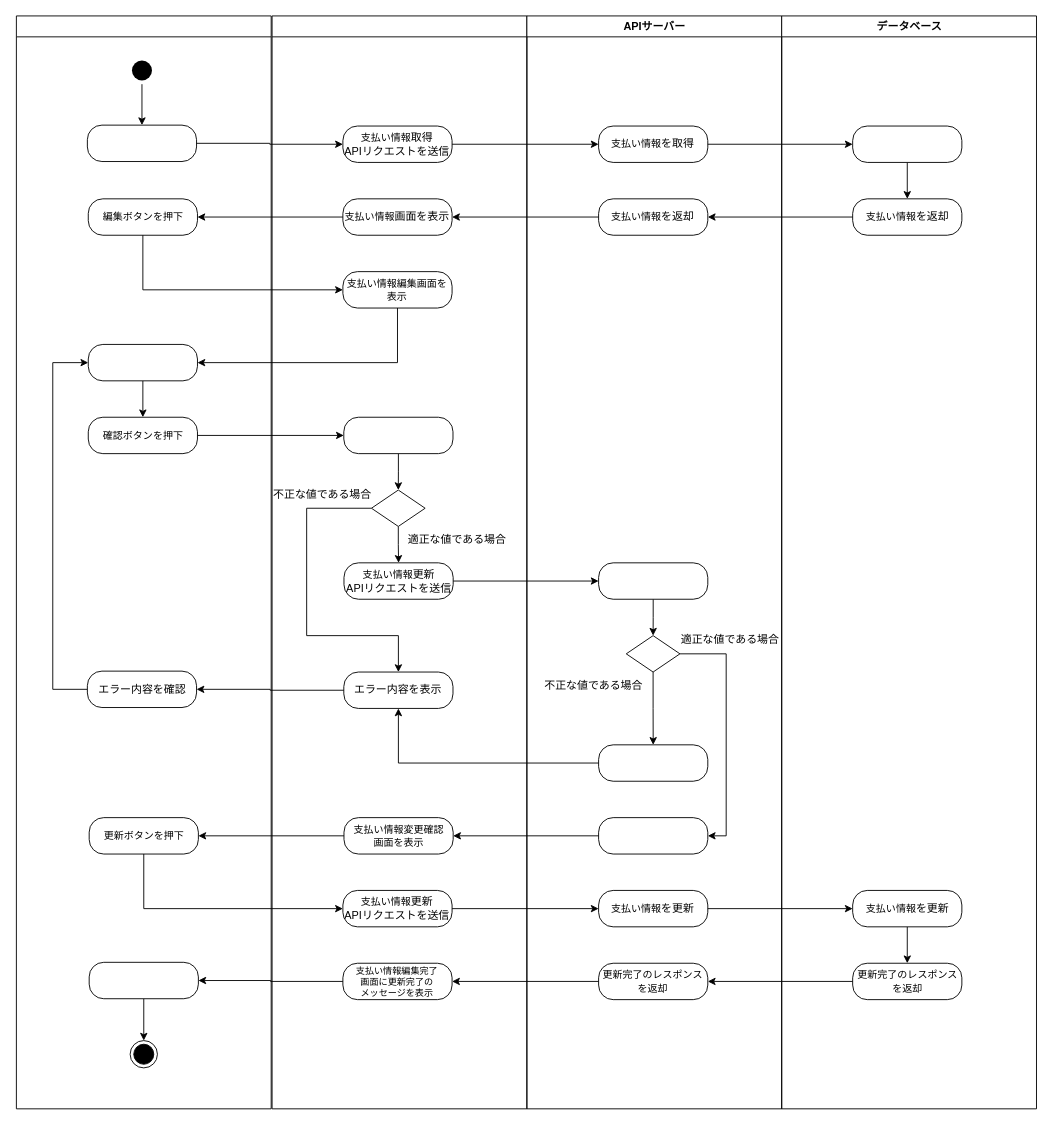
Image size: 1052x1125. Some labels were removed from this diagram. Each missing label, with the box of its shape:
ECサイト画面: (271, 15, 527, 1109)
エラーを返却: (598, 744, 708, 781)
バリデーション結果を返却: (598, 817, 708, 854)
値を変更: (87, 344, 197, 381)
入力値の バリデーション: (343, 416, 453, 454)
支払い情報 の バリデーション: (598, 562, 708, 599)
支払い情報 検索: (852, 125, 962, 162)
支払い情報画面に アクセス: (86, 124, 197, 162)
更新が完了したことを確認: (88, 961, 198, 999)
販売管理者: (15, 15, 271, 1109)
